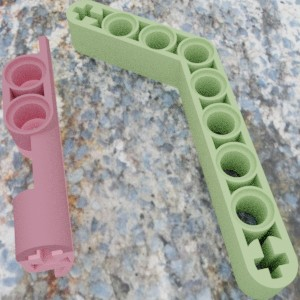lego: (66, 0, 298, 300), (1, 35, 74, 277)
